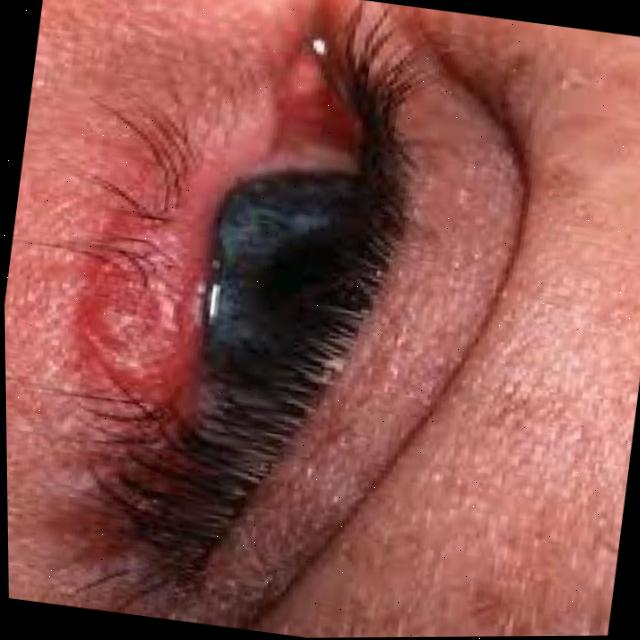Rosacea: (51, 121, 223, 498)
